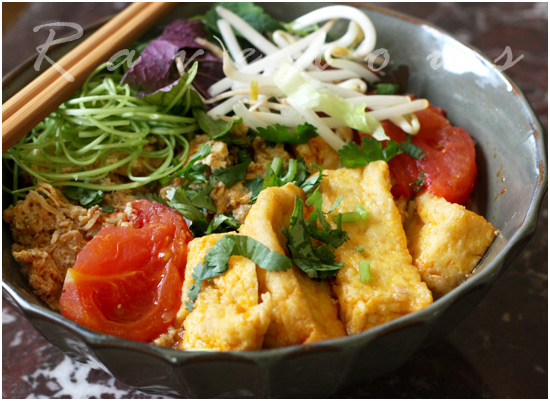onion: (205, 43, 362, 139)
tofu: (322, 160, 422, 327), (240, 184, 332, 344), (174, 222, 255, 354)
tomato: (64, 213, 196, 338), (384, 104, 477, 198)
